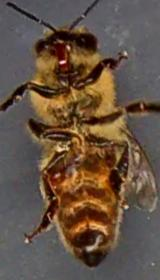varroa_mite: (40, 156, 80, 194)
